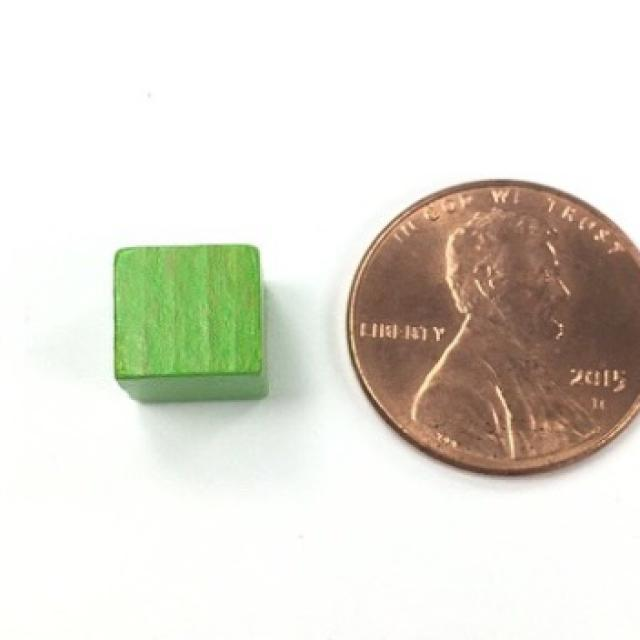green cube: (113, 244, 269, 402)
